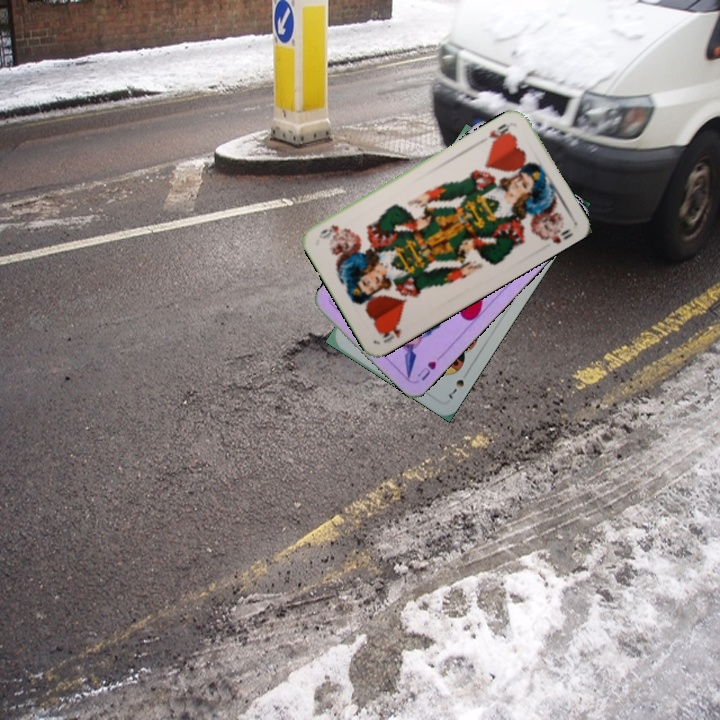HO: (484, 119, 514, 146), (376, 319, 404, 346)
HU: (413, 357, 439, 384)
S7: (444, 375, 467, 402)
